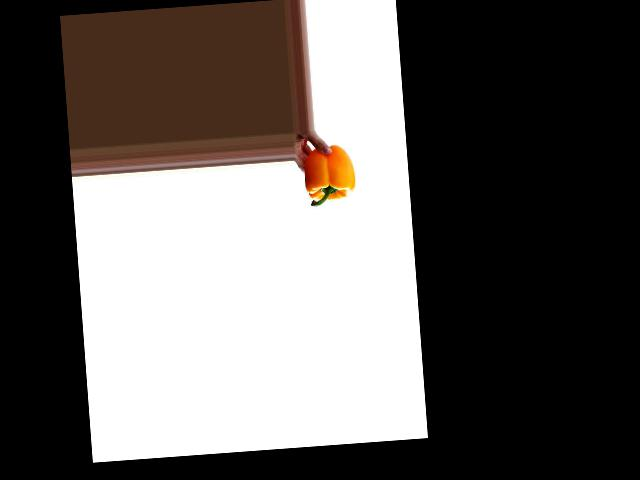bell_pepper: (302, 142, 358, 209)
